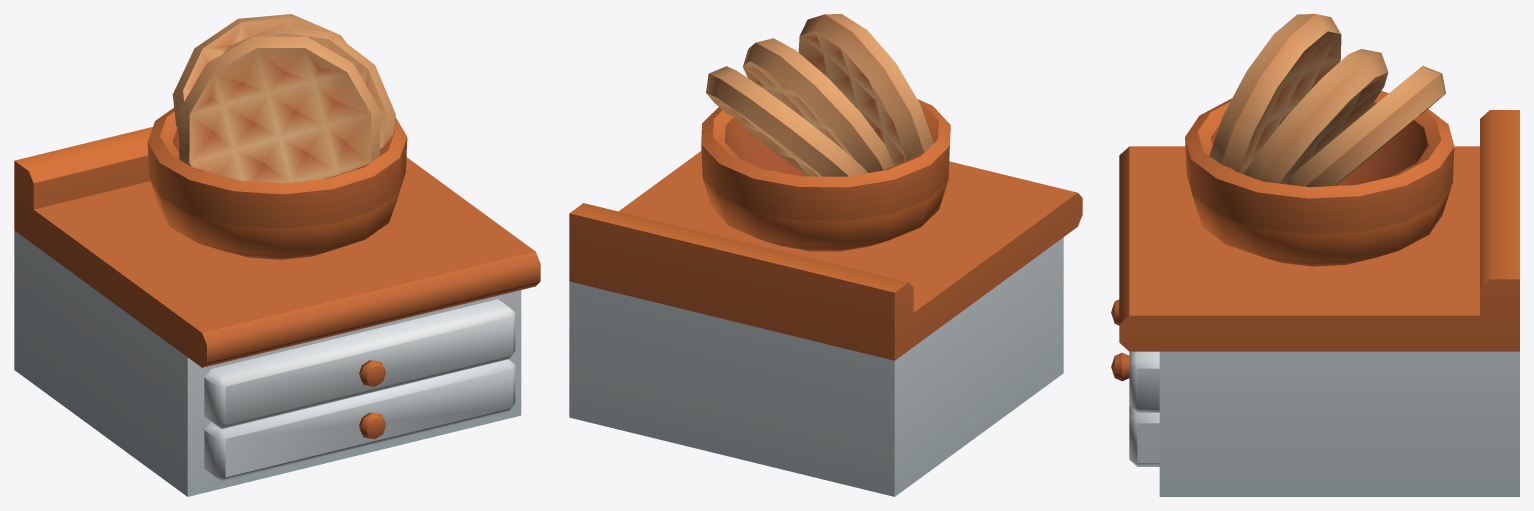
The model's file is waf_counter.glb.
3 renders of one model, left to right at view 1: azimuth 30°, elevation 25°; view 2: azimuth 150°, elevation 25°; view 3: azimuth 270°, elevation 25°, orthographic. The views are drawn at different scales.
Visible parts, largest first — view 1: kitchencounter_straight_A_backsplash, icecream_bowl_waffles; view 2: kitchencounter_straight_A_backsplash, icecream_bowl_waffles; view 3: kitchencounter_straight_A_backsplash, icecream_bowl_waffles.
Part boxes in pixels (<box>): kitchencounter_straight_A_backsplash: <box>14,127,540,496</box>; icecream_bowl_waffles: <box>147,14,407,259</box>; kitchencounter_straight_A_backsplash: <box>569,151,1082,496</box>; icecream_bowl_waffles: <box>701,14,950,251</box>; kitchencounter_straight_A_backsplash: <box>1111,110,1519,496</box>; icecream_bowl_waffles: <box>1185,14,1454,266</box>.
Bounding box in the file's own units: 2 × 2.12 × 2.04.
1 material, 1 textured.
